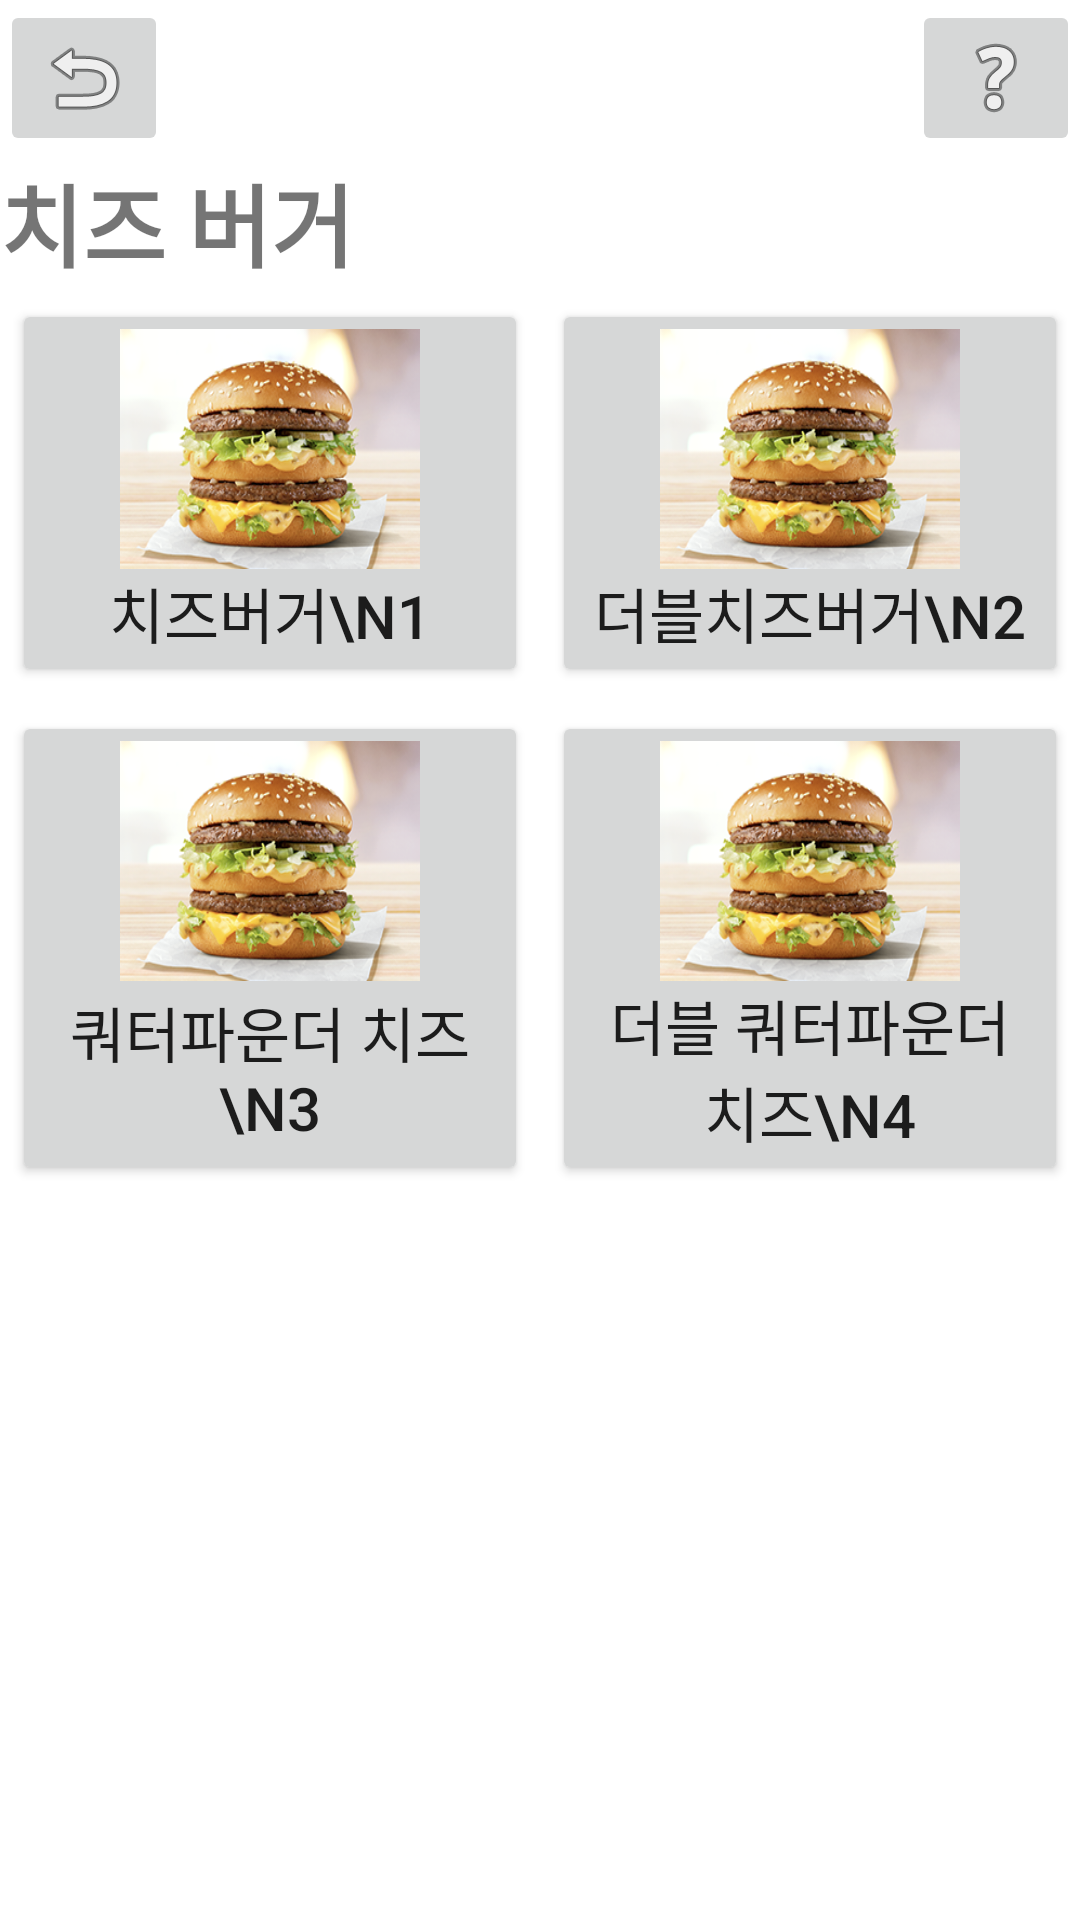

Screen size 1080 × 1920. Icon name, then its center in pixels as point (x, y):
help: point (996, 78)
revert: point (84, 78)
